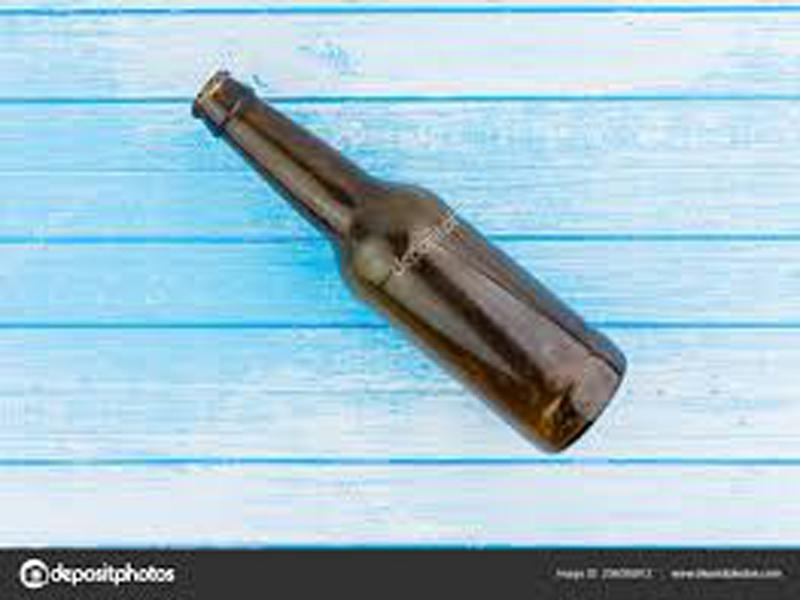Beer: (195, 69, 627, 459)
